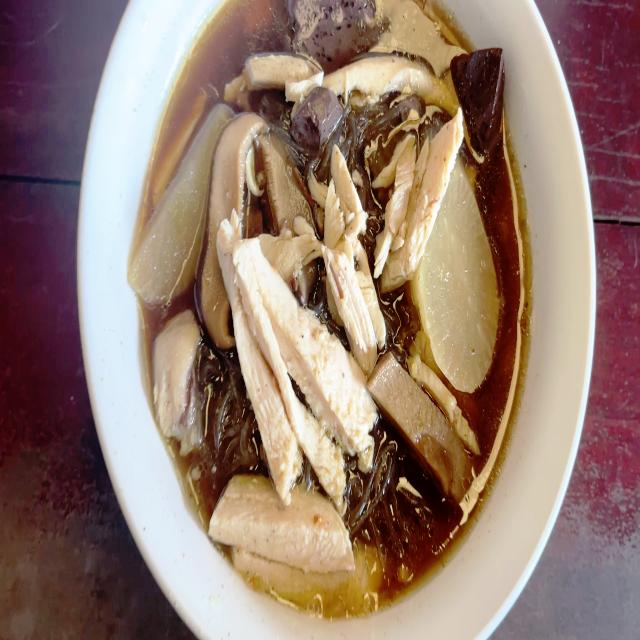boiled_chicken_blood_jelly: (280, 0, 387, 61), (455, 43, 500, 153), (298, 88, 334, 146)
chicken_shredded: (214, 218, 365, 494), (214, 472, 371, 602), (381, 119, 462, 283), (333, 150, 378, 350), (326, 47, 458, 101), (150, 310, 206, 435), (238, 40, 322, 92)
daikon_radish: (131, 83, 216, 300), (423, 194, 494, 372)
noodle: (148, 0, 514, 604)
